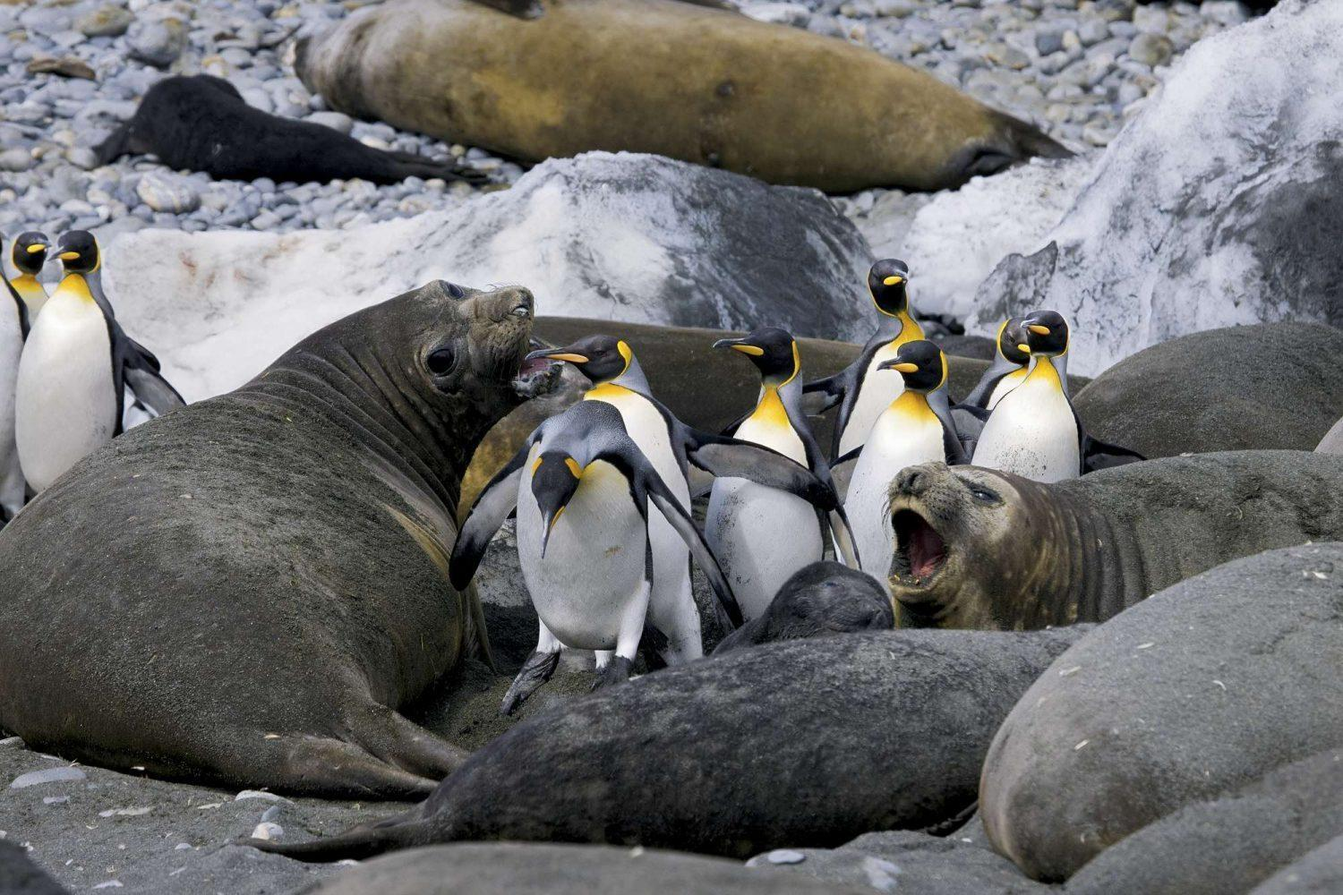Penguin: (544, 336, 836, 667), (449, 401, 740, 712), (706, 328, 861, 619), (16, 231, 184, 492), (844, 341, 967, 582), (800, 260, 925, 465), (971, 310, 1085, 482), (950, 317, 1030, 461), (0, 262, 29, 523), (9, 231, 50, 328)
